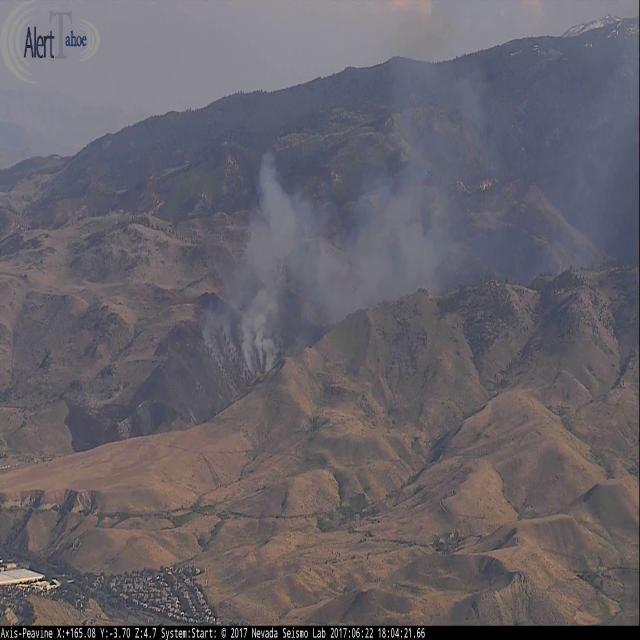smoke: (211, 0, 640, 433)
